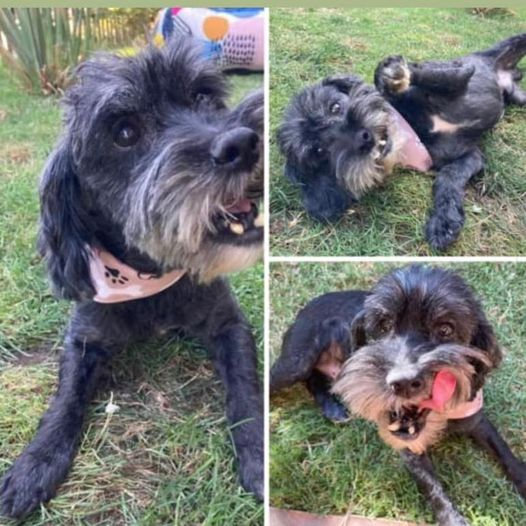dog: (11, 38, 262, 516), (274, 268, 522, 524), (272, 23, 518, 250)
